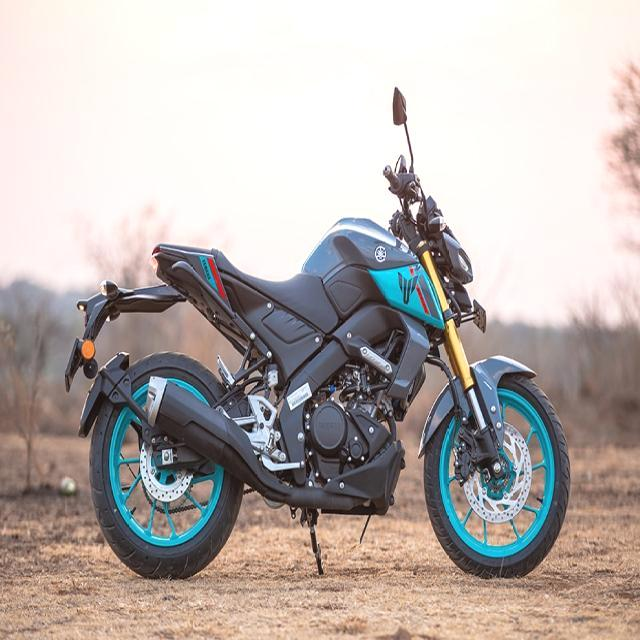MOTORCYCLE: (69, 212, 568, 582)
